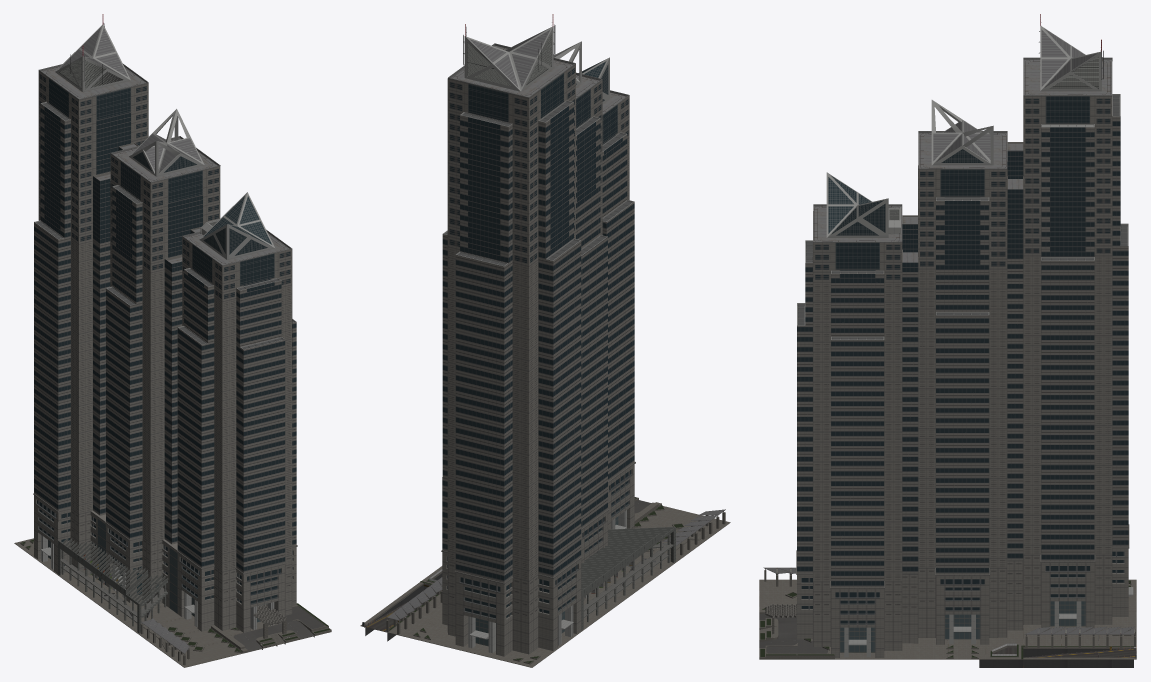
Rendered from shinjuku.FBX.
3 views of the same model, side by side, from view 1: azimuth 30°, elevation 25°; view 2: azimuth 150°, elevation 25°; view 3: azimuth 270°, elevation 25° (orthographic). The views are drawn at different scales.
Parts seen in each view (by area): view 1: shinjuku; view 2: shinjuku; view 3: shinjuku.
Boxes of the visible parts, box(x1,y1,x2,y2) form: shinjuku: box(14, 14, 331, 667); shinjuku: box(360, 14, 730, 667); shinjuku: box(759, 14, 1136, 667).
Bounding box in the file's own units: 6464 × 22073 × 12800.
